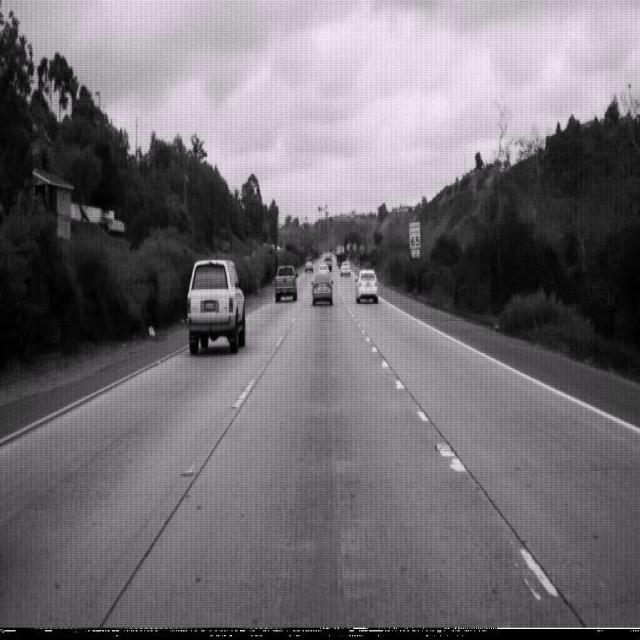speedLimit65: (408, 221, 421, 250)
